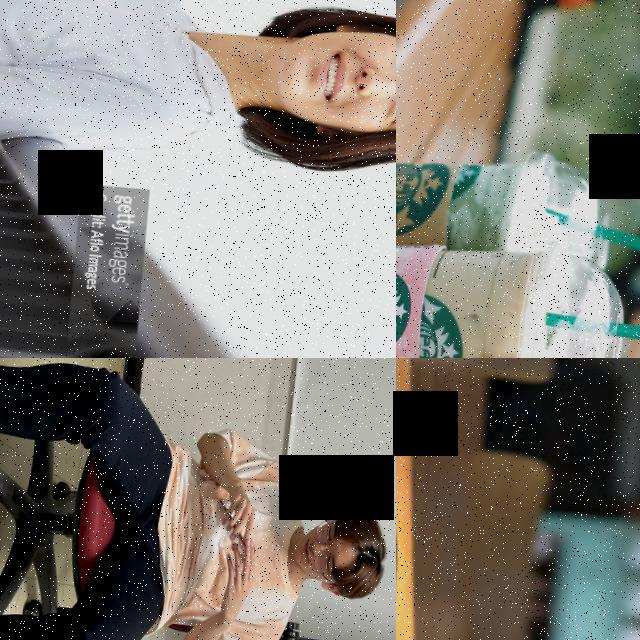cup: (396, 219, 629, 358), (396, 136, 615, 276)
